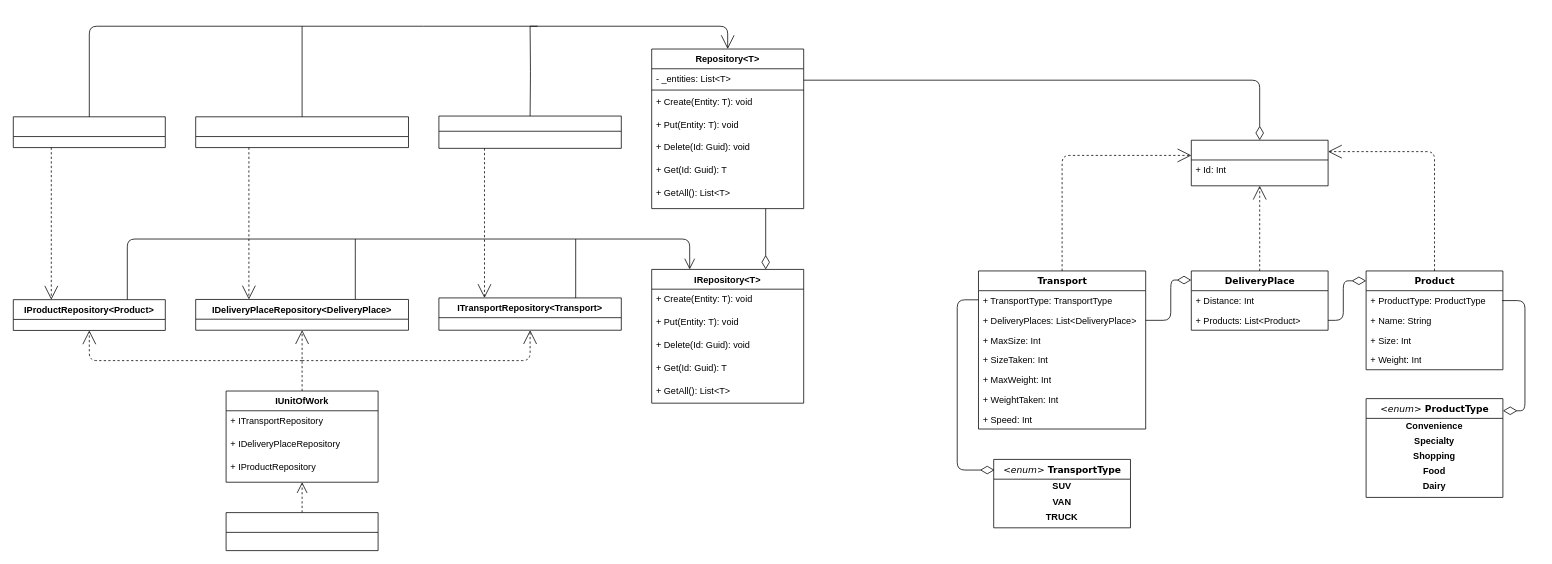
Some shapes in this 1552 by 564 pixel diagram are drawn without their labels. The box of each missing label's shape, as (x1, y1, x2, y2) in pixels:
DeliveryPlaceRepository: (195, 116, 408, 148)
IBase: (1191, 139, 1328, 186)
ProductRepository: (13, 116, 165, 148)
TransportRepository: (438, 115, 621, 148)
UnitOfWork: (225, 512, 378, 551)
